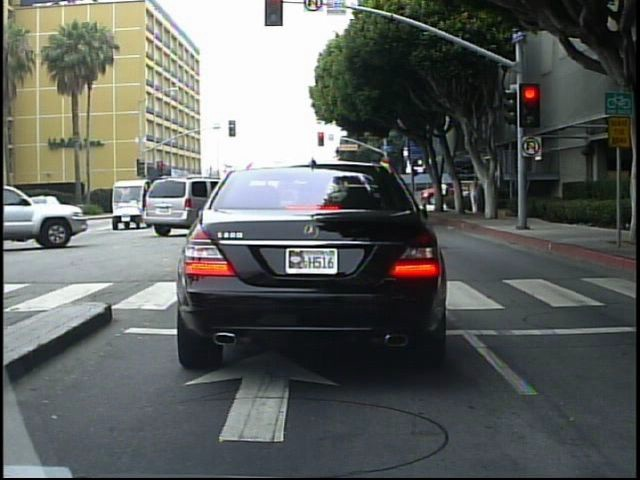person: (632, 166, 638, 278), (467, 179, 482, 218), (437, 179, 452, 212), (636, 166, 638, 278)
